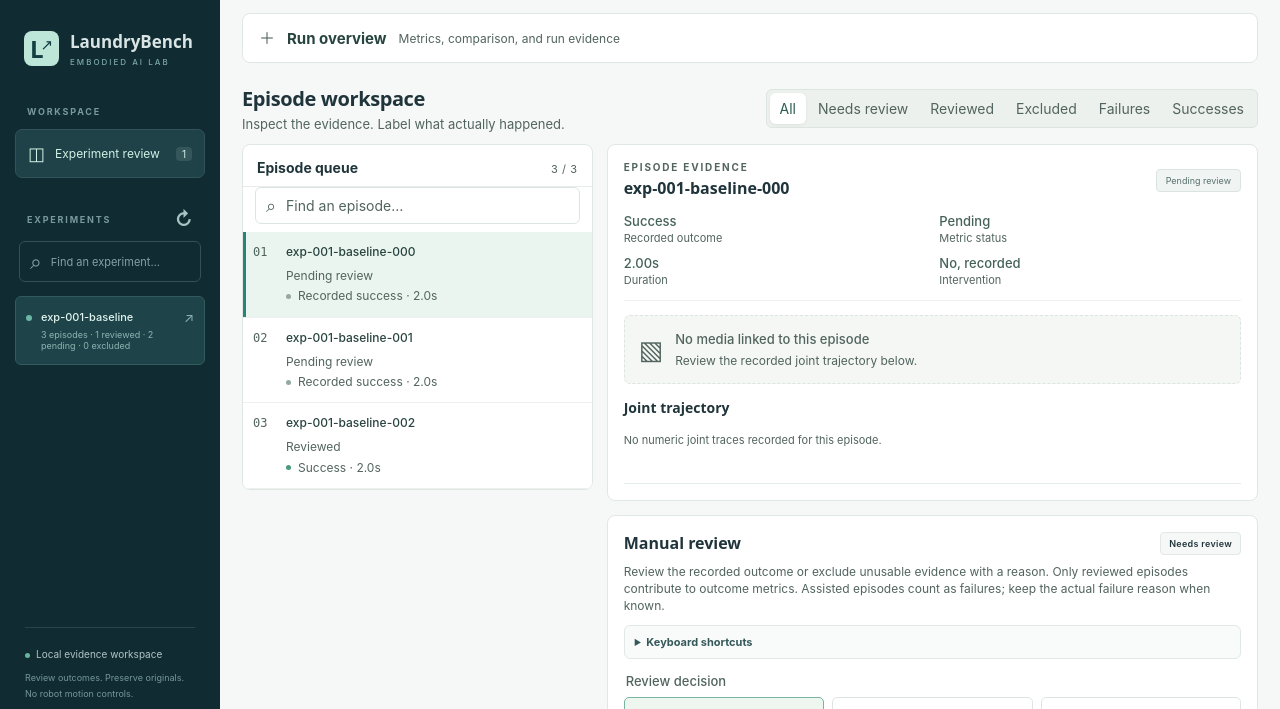
Test: clears the selection at the end of the filtered queue without wrapping to an earlier pending row
The width and height of the screenshot is (1280, 709).
(page scrolled)
Expected: the heading "Manual review" is shown, [624,532,741,554]
Click the button "exp-001-baseline-001" at point(349, 337), box [243,318,592,403]
(page scrolled)
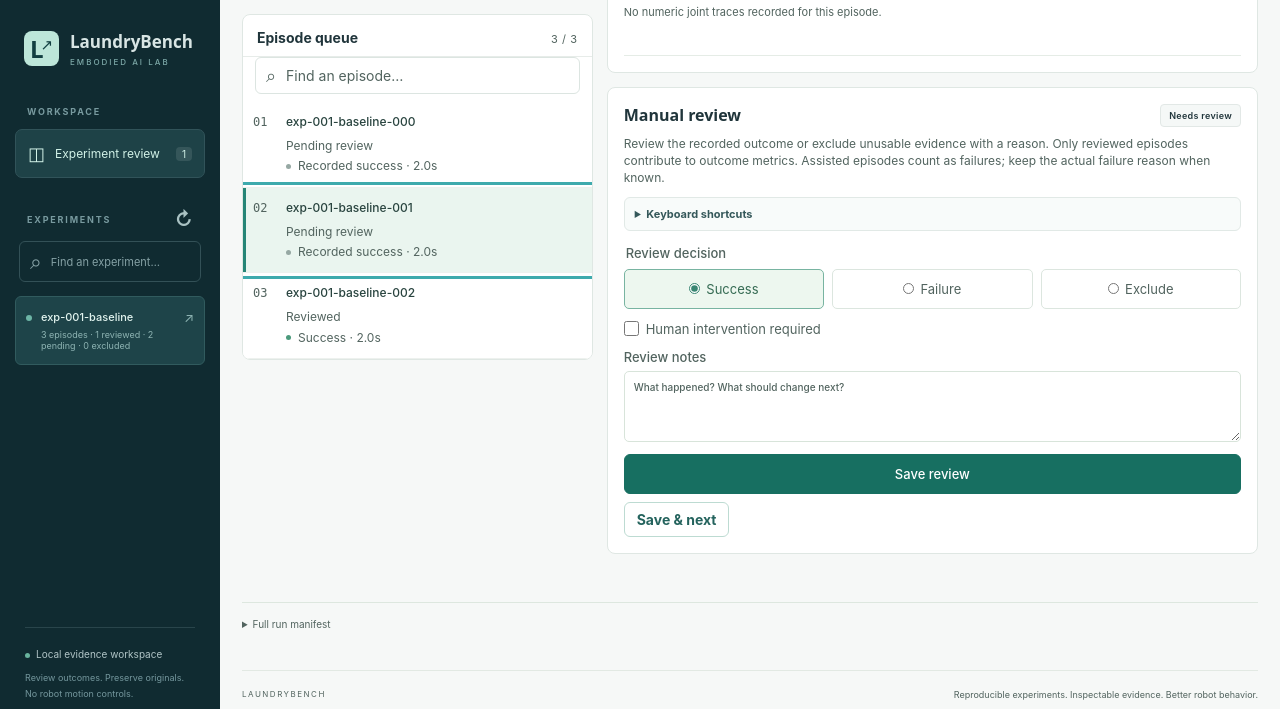
Click the button with aria-label "Save & next: save review and go to next pending episode" at point(677, 519), box [624,502,730,537]
(page scrolled)
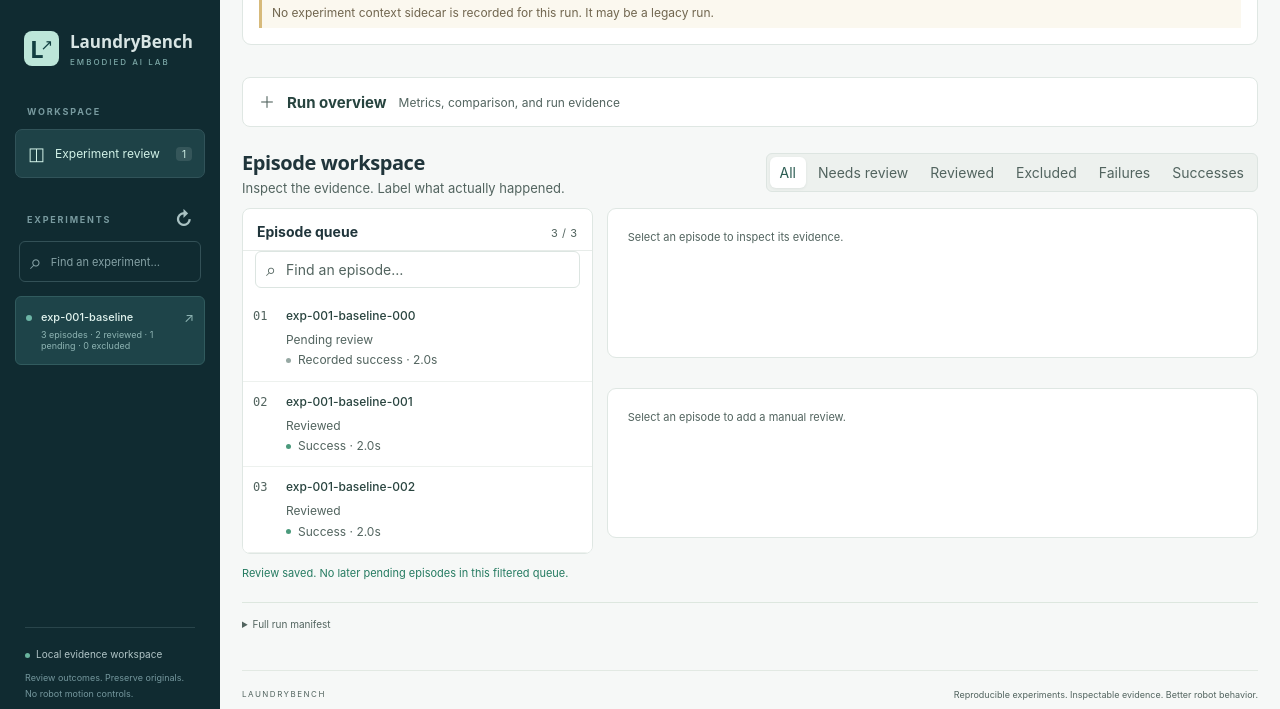
Expected: the button "exp-001-baseline-000" shows "Pending review", [243,296,592,382]
Expected: the text "Review saved. No later pending episodes in this filtered queue." is shown, [242,566,568,580]
